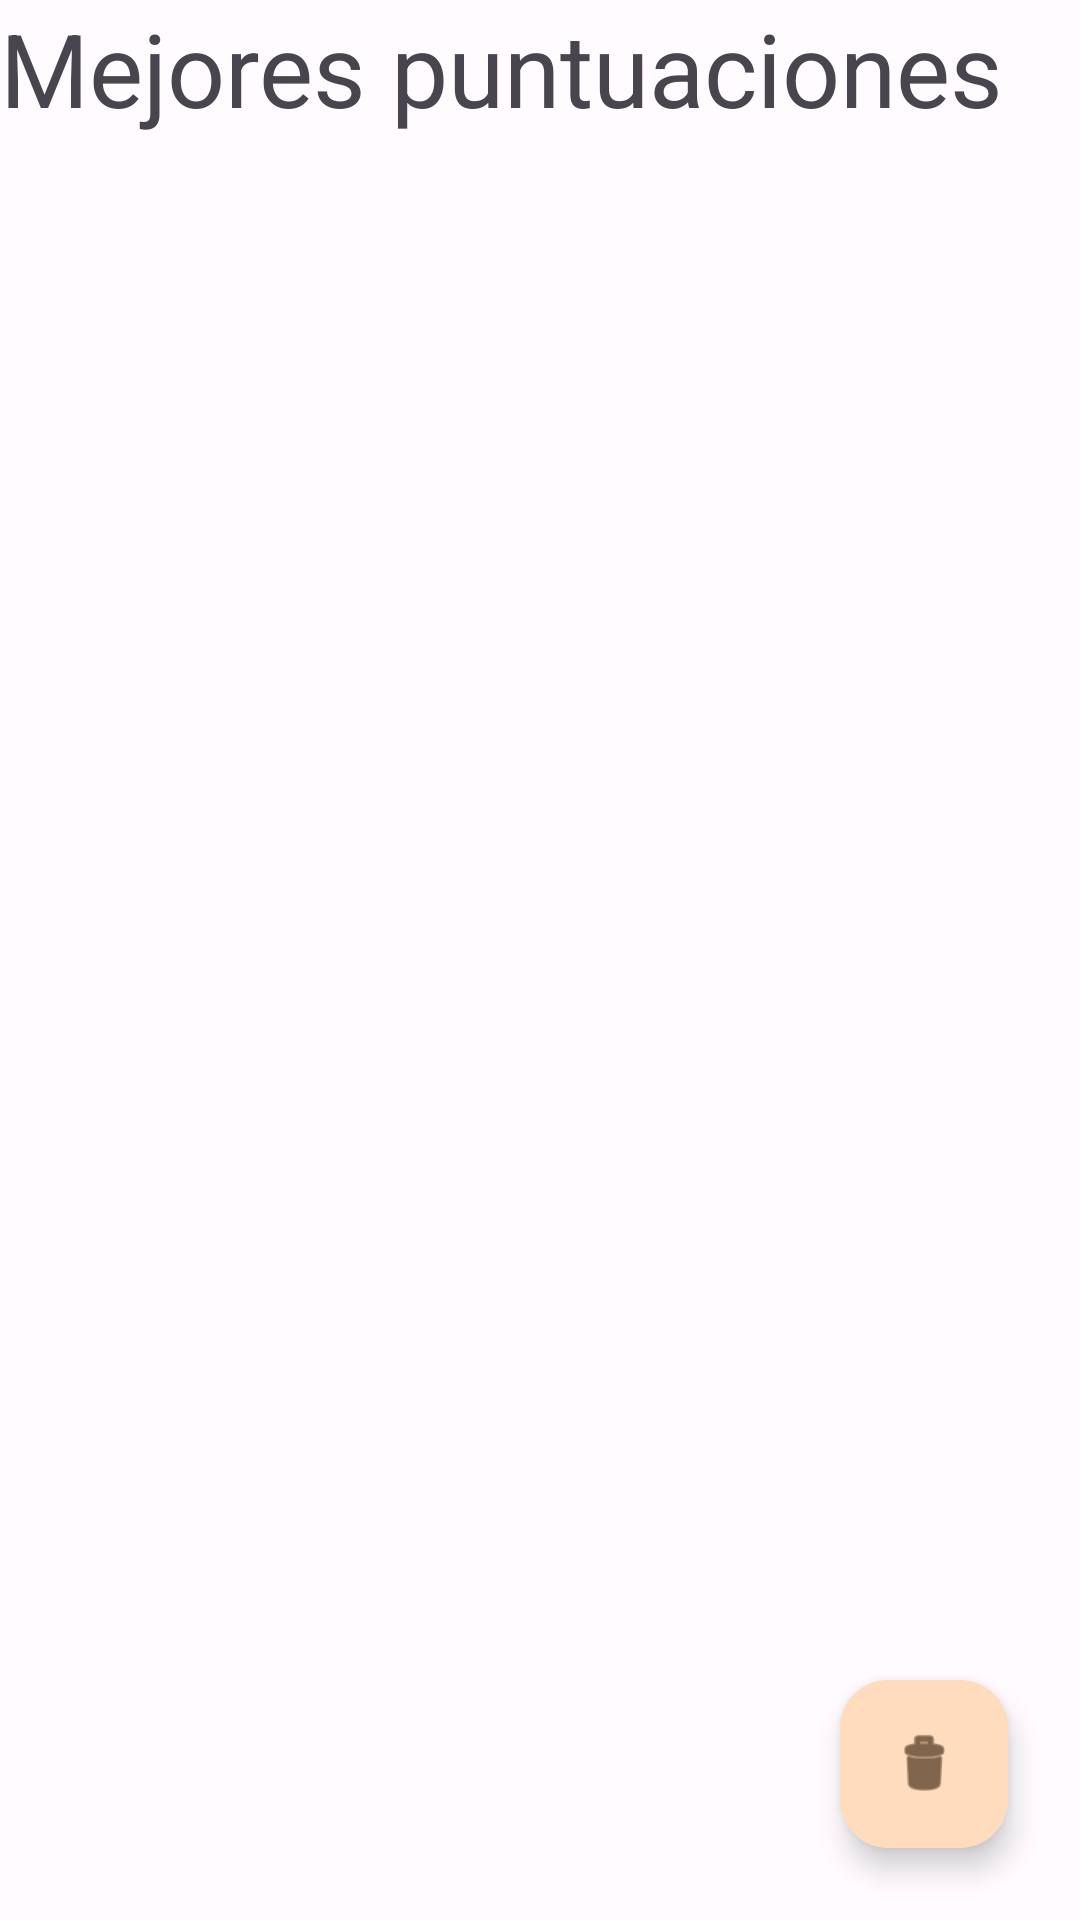

Icon click points for this 1080 × 1920 phone screenshot, format (x=x, y=y):
Borrar todas las puntuaciones: (x=924, y=1764)
